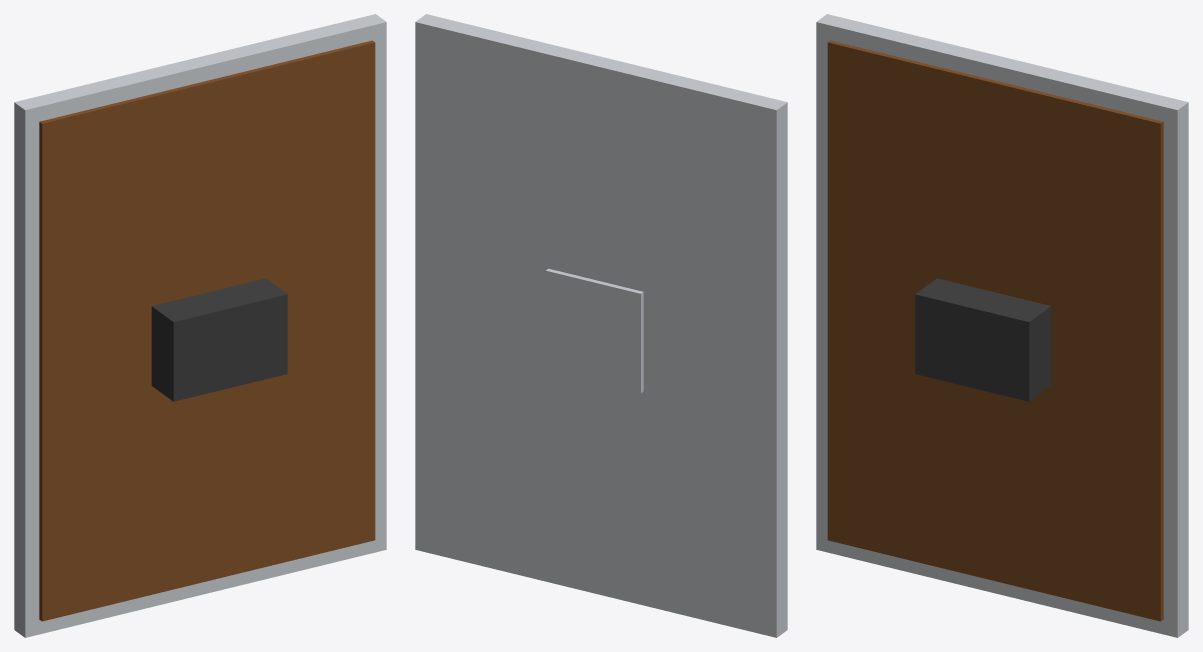
Rendered from shield.obj.
3 views of the same model, side by side, from view 1: azimuth 30°, elevation 25°; view 2: azimuth 150°, elevation 25°; view 3: azimuth 330°, elevation 25° (orthographic).
Size of the model in its own units: 0.76 by 1.06 by 0.14.
